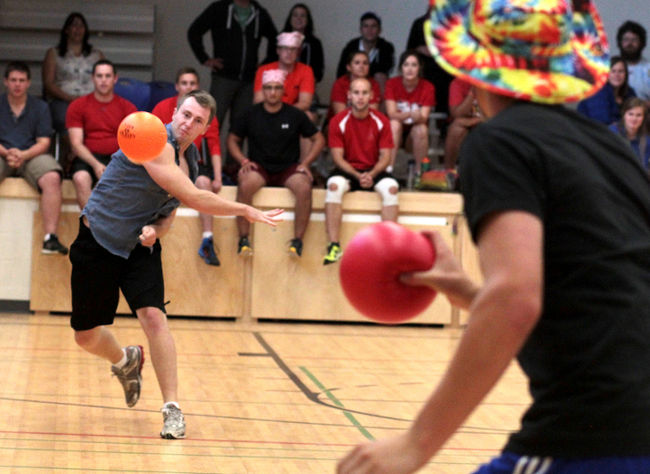red ball: (337, 222, 444, 325)
